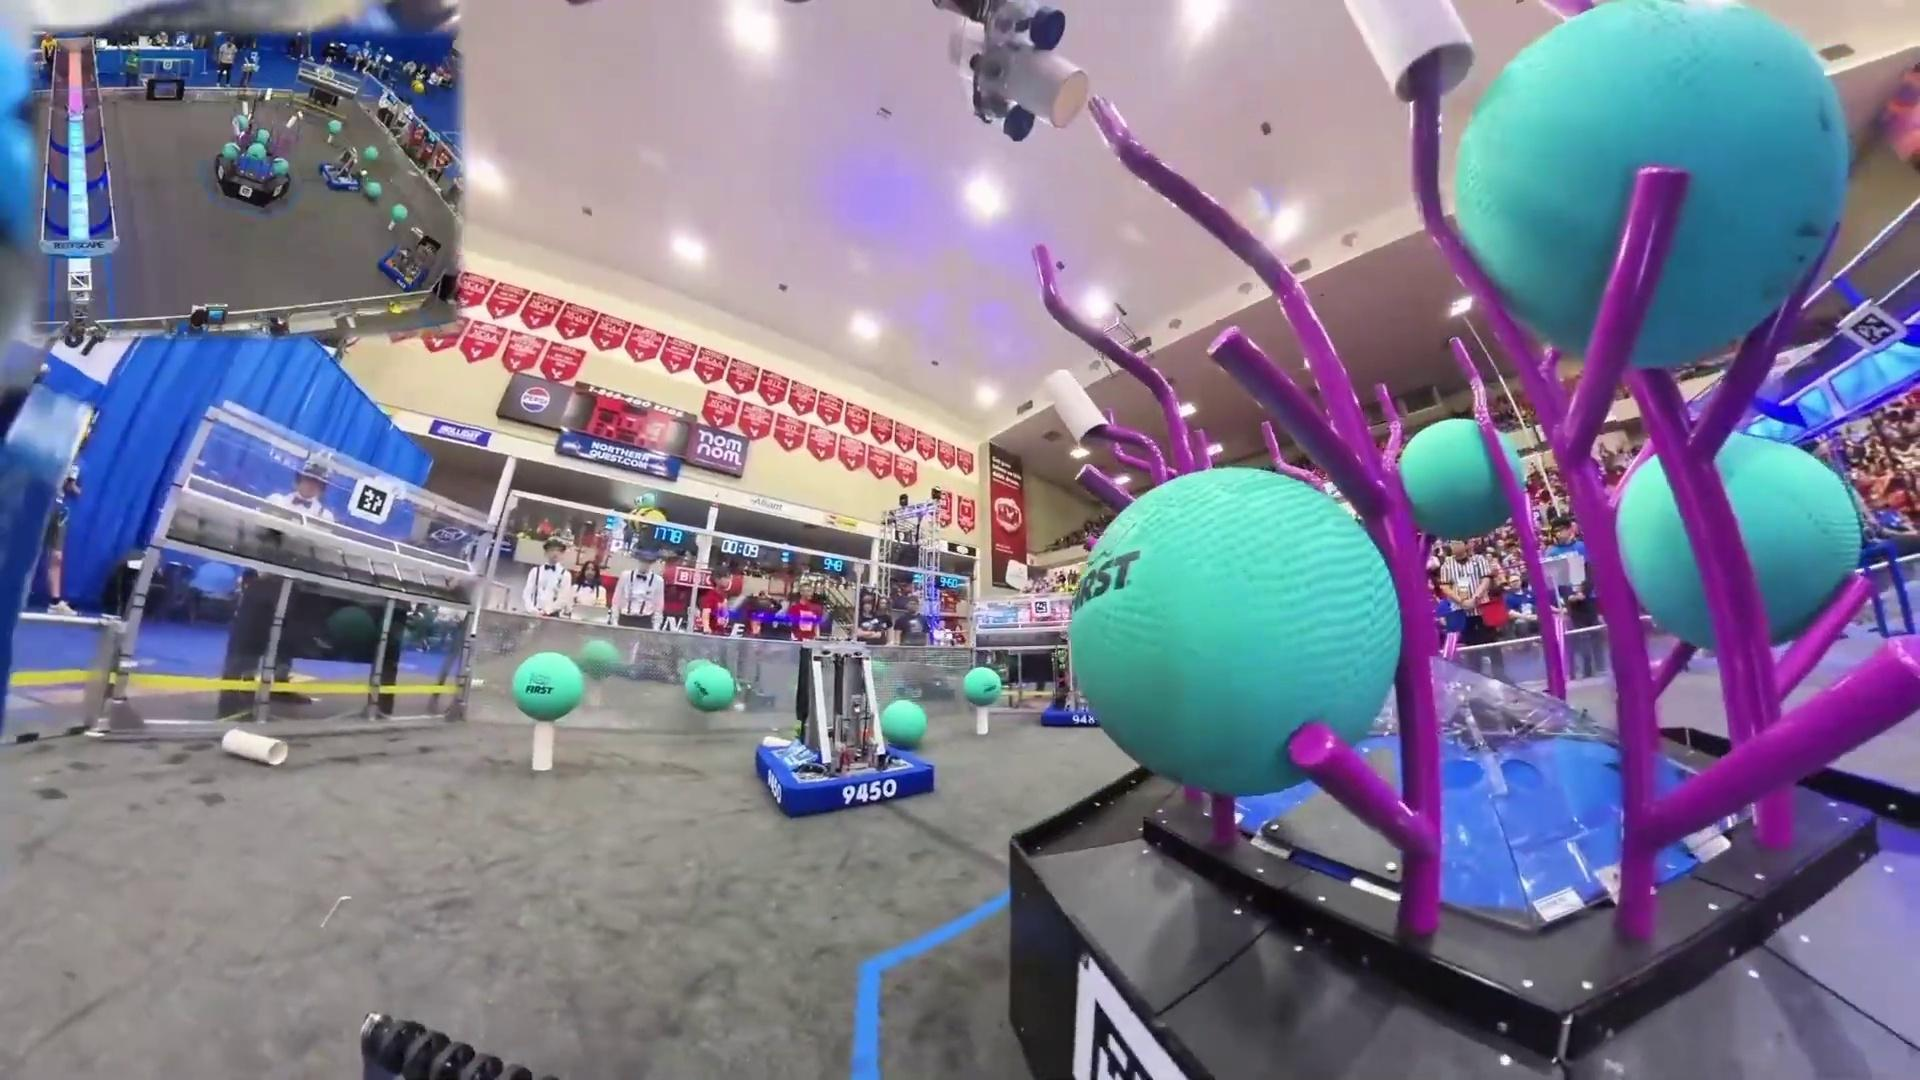robot: (753, 637, 934, 816), (1040, 646, 1098, 728), (378, 232, 440, 293), (316, 142, 363, 196)
